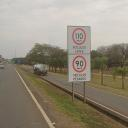speed_limit_110: (72, 28, 86, 45)
